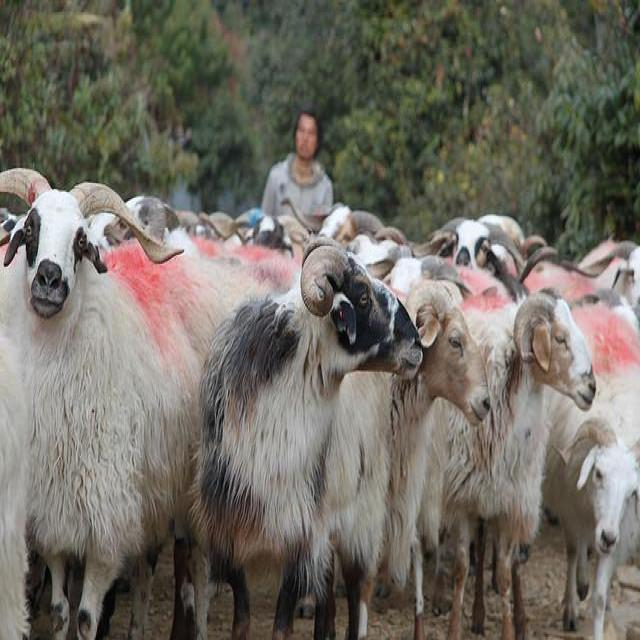Sheep: (0, 154, 244, 638), (169, 235, 425, 632), (442, 290, 596, 632), (537, 300, 639, 634), (402, 282, 493, 638), (127, 196, 306, 284), (345, 231, 461, 309), (273, 195, 386, 250), (199, 208, 311, 260), (433, 213, 526, 267)
